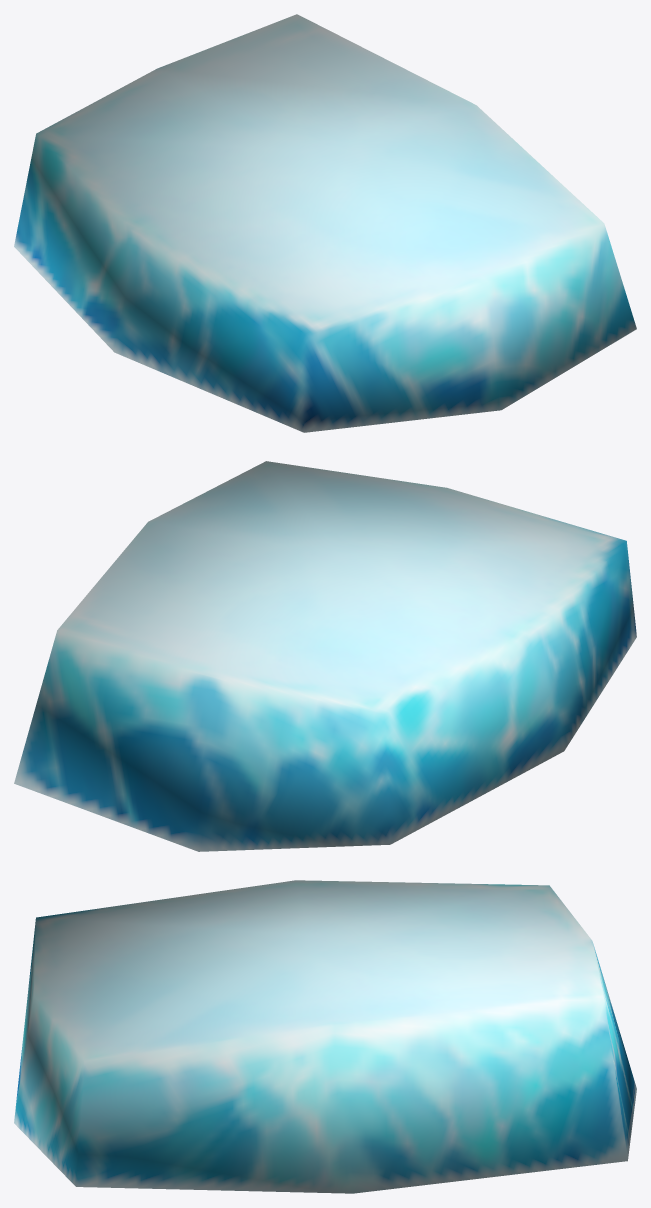
Rendered from Ice_02_001.FBX.
3 renders of one model, top to bottom at view 1: azimuth 30°, elevation 25°; view 2: azimuth 150°, elevation 25°; view 3: azimuth 270°, elevation 25°, orthographic. The views are drawn at different scales.
Parts seen in each view (by area): view 1: Ice_02_001; view 2: Ice_02_001; view 3: Ice_02_001.
Boxes of the visible parts, x1=… form: Ice_02_001: x1=14, y1=14, x2=636, y2=432; Ice_02_001: x1=14, y1=461, x2=636, y2=851; Ice_02_001: x1=14, y1=880, x2=636, y2=1193.
Size of the model in its own units: 4.53 by 1.79 by 5.58.
